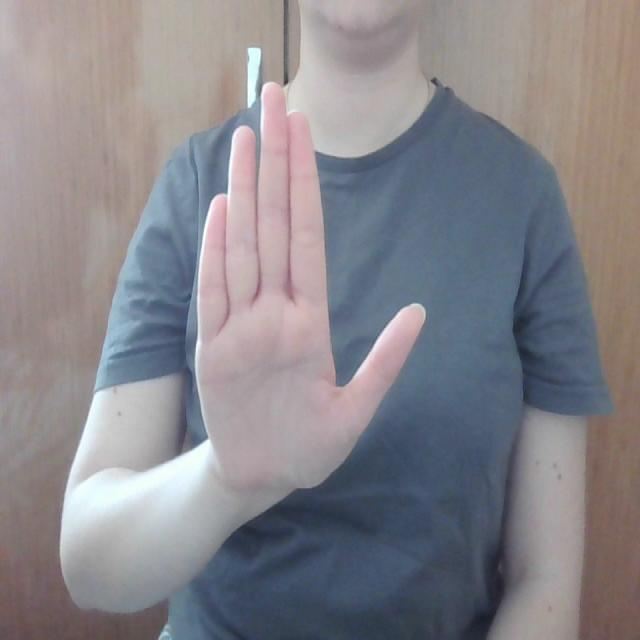Dur: (152, 73, 438, 496)
